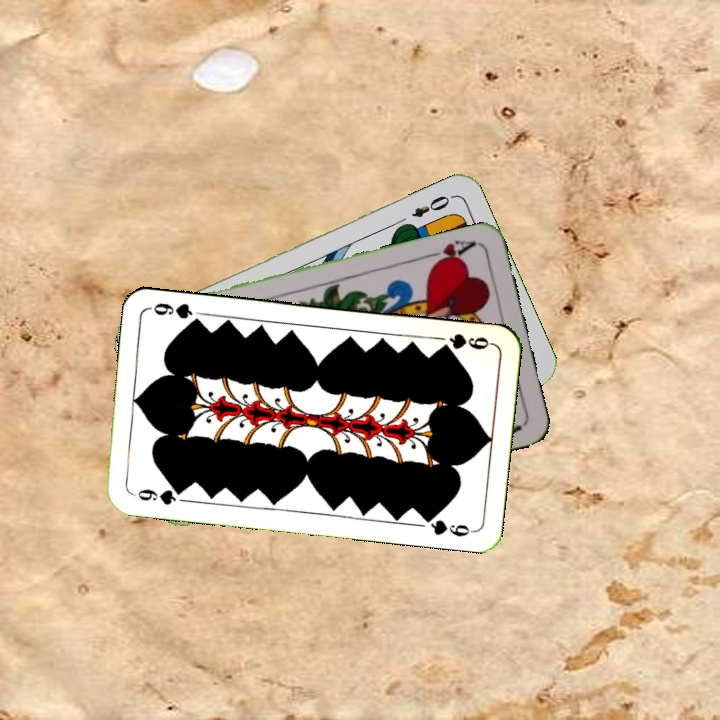EO: (407, 191, 457, 220)
G9: (435, 329, 495, 354), (128, 484, 188, 507)
HA: (421, 235, 479, 270)
